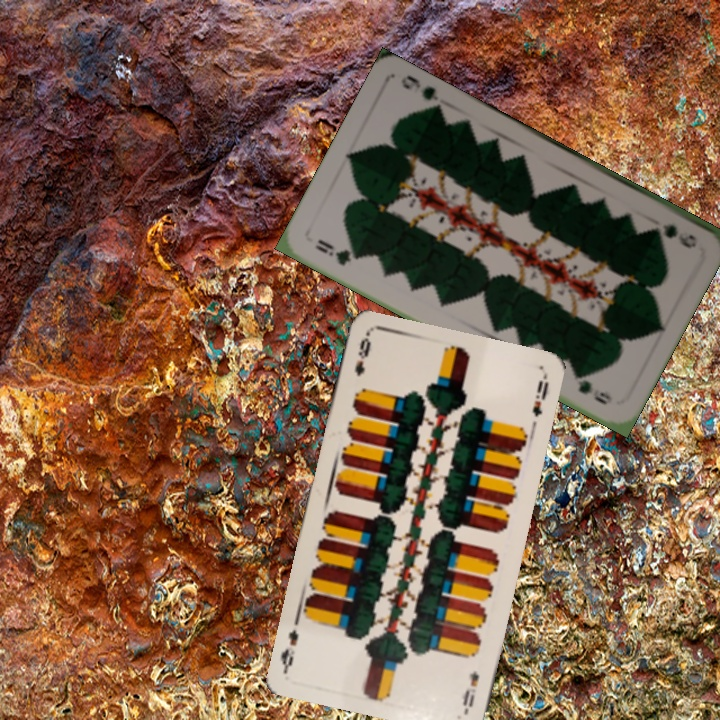E9: (458, 666, 482, 714), (350, 333, 374, 379)
G9: (310, 235, 361, 268), (647, 220, 700, 251)
